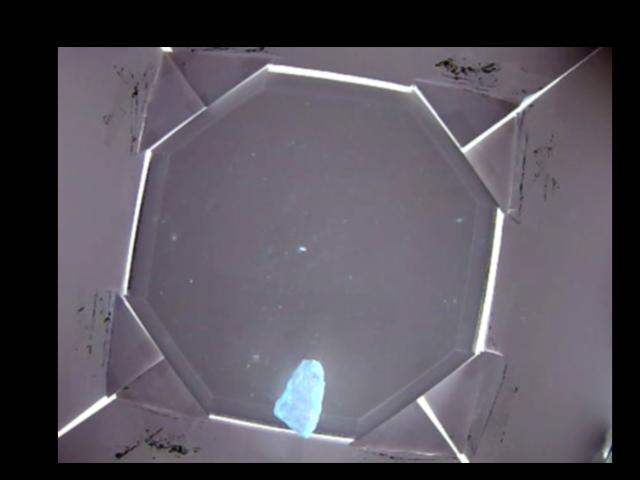Brisk: (276, 357, 325, 438)
